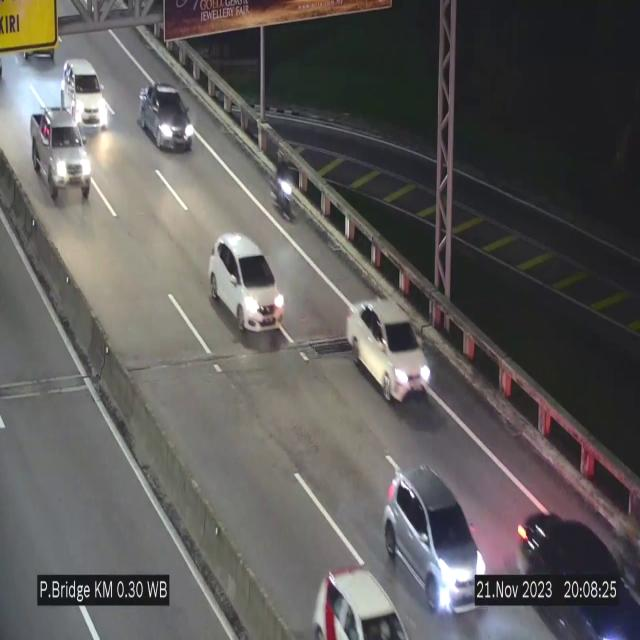Car: (512, 483, 639, 640), (387, 463, 489, 615), (346, 292, 434, 416), (307, 567, 417, 640), (209, 235, 284, 338), (31, 109, 90, 202), (138, 84, 194, 150), (61, 60, 109, 130)
Motorcycle: (274, 165, 296, 222)
